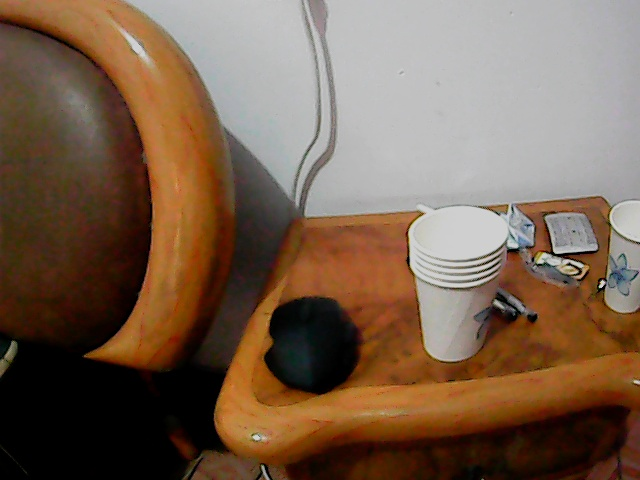cup: (405, 201, 509, 364)
mouse: (264, 289, 362, 392)
